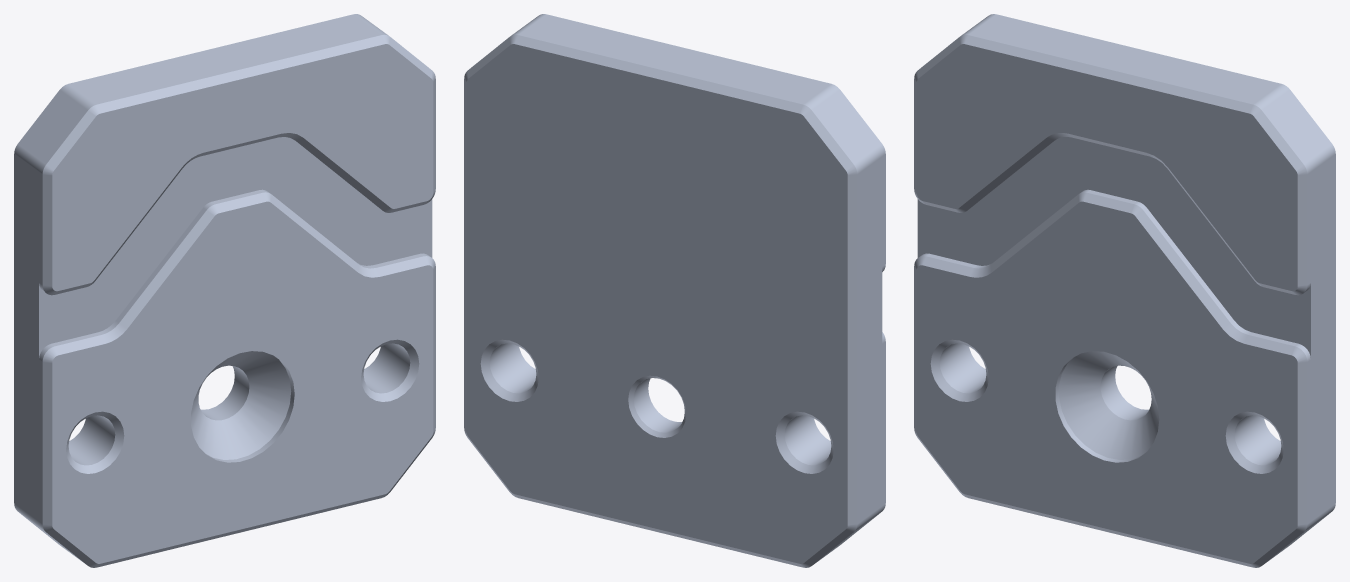
3 views of the same model, side by side, from view 1: azimuth 30°, elevation 25°; view 2: azimuth 150°, elevation 25°; view 3: azimuth 330°, elevation 25° (orthographic).
Parts seen in each view (by area): view 1: A295-004-0404; view 2: A295-004-0404; view 3: A295-004-0404.
Part boxes in pixels (box(x1,y1,x2,y2)): A295-004-0404: box(14, 14, 435, 567); A295-004-0404: box(464, 14, 885, 567); A295-004-0404: box(914, 14, 1335, 567).
Bounding box in the file's own units: 0.0508 × 0.0571 × 0.00794.
